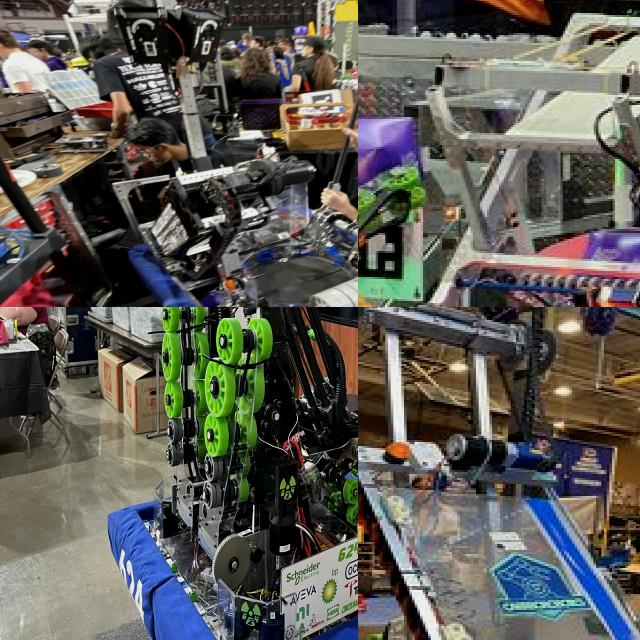FRC-Robots: (358, 307, 640, 640), (102, 307, 358, 640), (358, 11, 640, 307), (100, 136, 358, 307), (358, 114, 432, 282)
